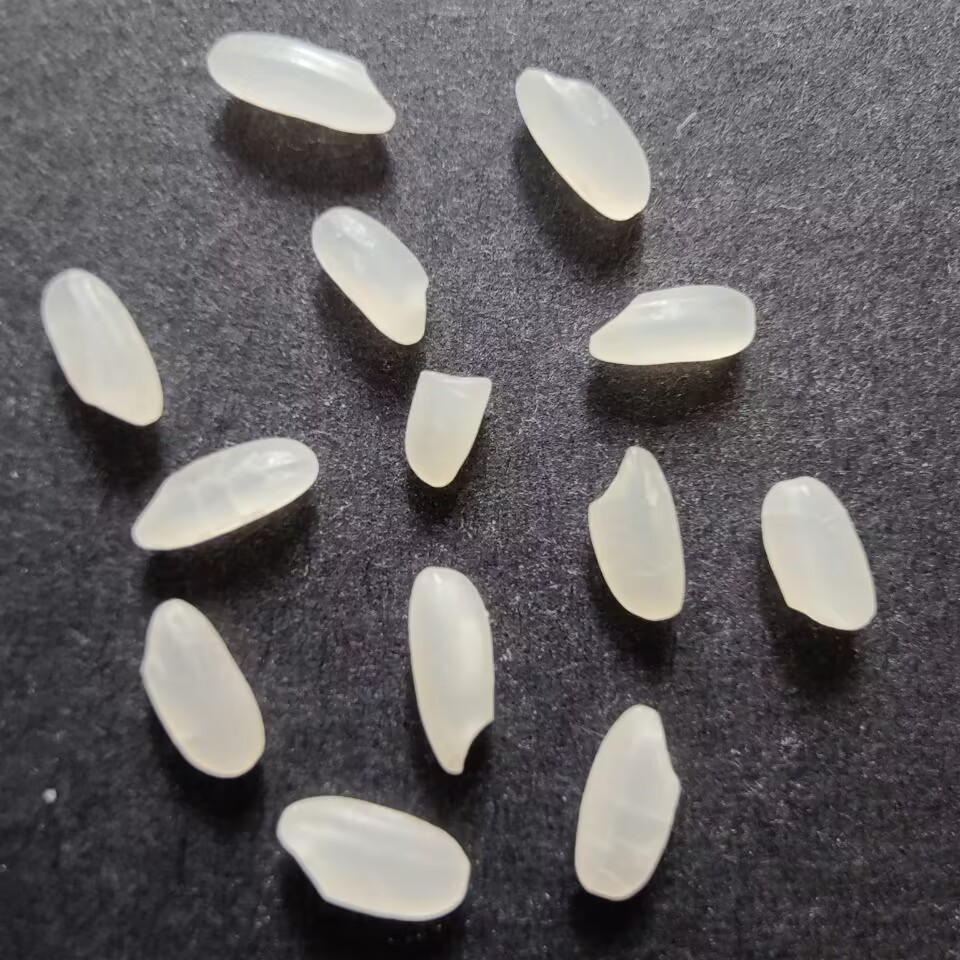broken: (399, 363, 494, 494)
rice: (270, 794, 476, 928), (133, 598, 269, 784), (126, 435, 325, 556), (510, 65, 655, 226), (572, 700, 684, 903), (200, 28, 396, 139), (37, 267, 167, 431), (402, 563, 497, 778), (581, 442, 690, 624), (760, 475, 880, 634), (308, 205, 435, 349), (585, 281, 758, 368)
